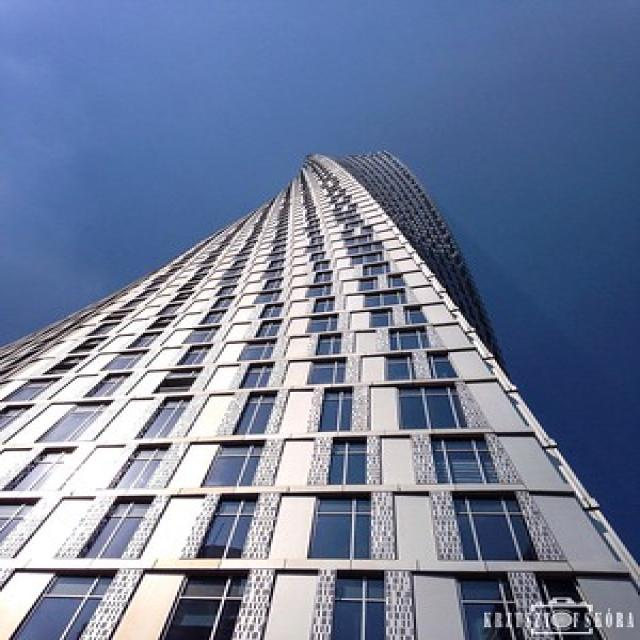building: (8, 118, 640, 639)
